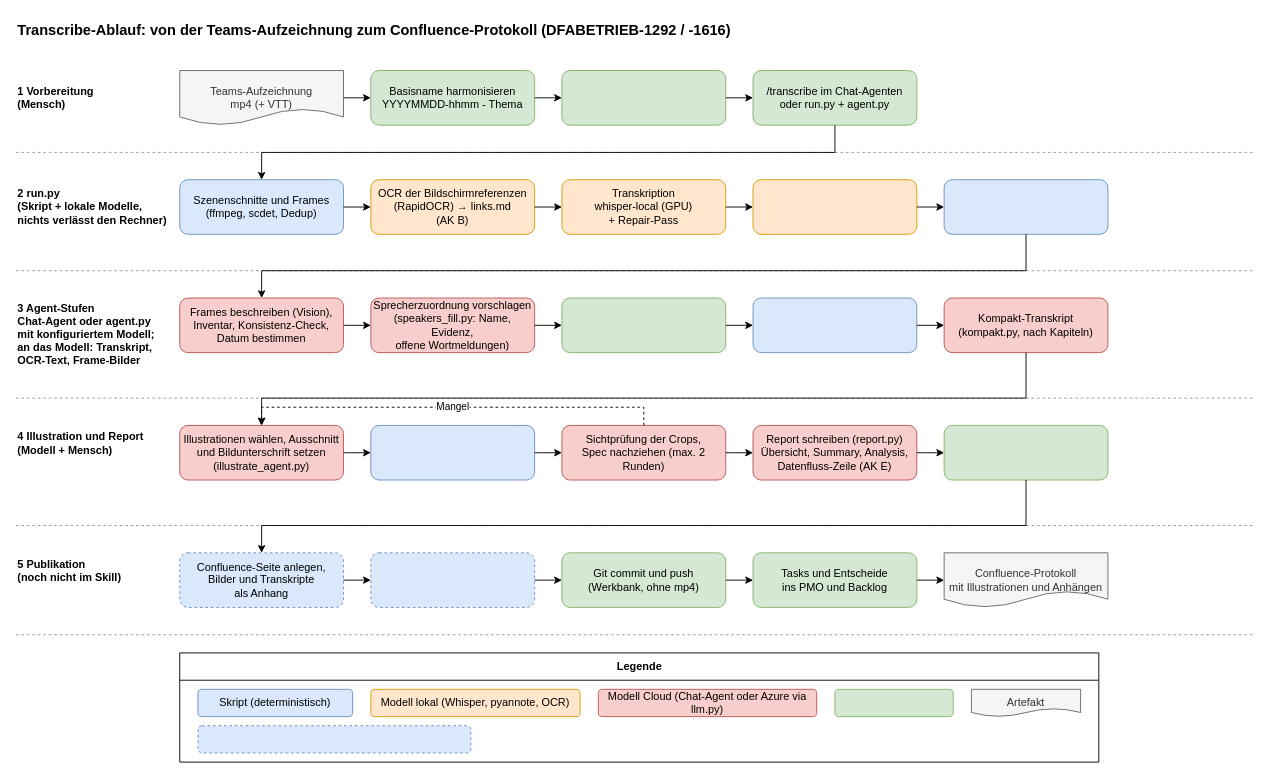
Image size: 1270x778. Some labels were removed from this diagram. Here are the shapes that lost their labels. From the top down, the centre of each, then its label:
(x=643, y=97): Teilnehmerliste und Glossar neben die Aufnahme legen (AK D)
(x=834, y=206): Sprechererkennung pyannote-local
(x=1025, y=206): Companion-Files schreiben protocol, transcript, vtt, speakers.md vorbefüllt
(x=643, y=325): Sprecher-Gate: offene Sprecher prüfen, Mensch korrigiert speakers.md (AK C)
(x=834, y=325): speakers.py --apply Namen in Transkript und VTT
(x=452, y=452): illustrate.py Crops nativ, Dedup, Schwärzung optional (AK A, F)
(x=1025, y=452): Review anhand review.md (Sprecher, Bilder, Report)
(x=452, y=579): Hub-Tabelle Knowhow-Transfer oder Besprechungsnotizen ergänzen
(x=893, y=702): Mensch (HIL: Eingabe, Entscheid, Review)
(x=334, y=739): Skript ausserhalb des Skills (heute Wegwerfskript)
